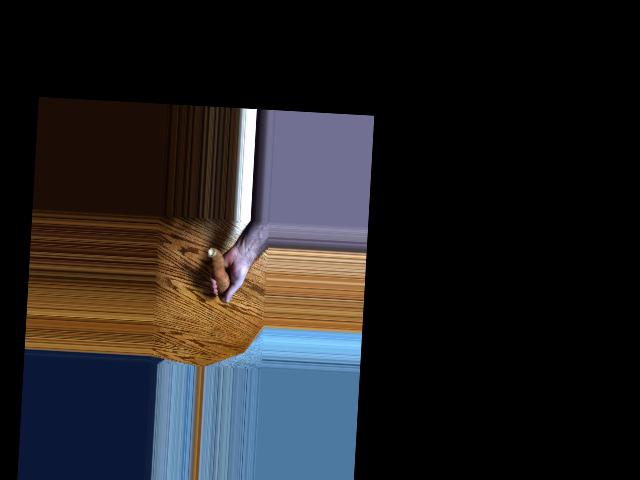sweet_potato: (205, 243, 232, 306)
